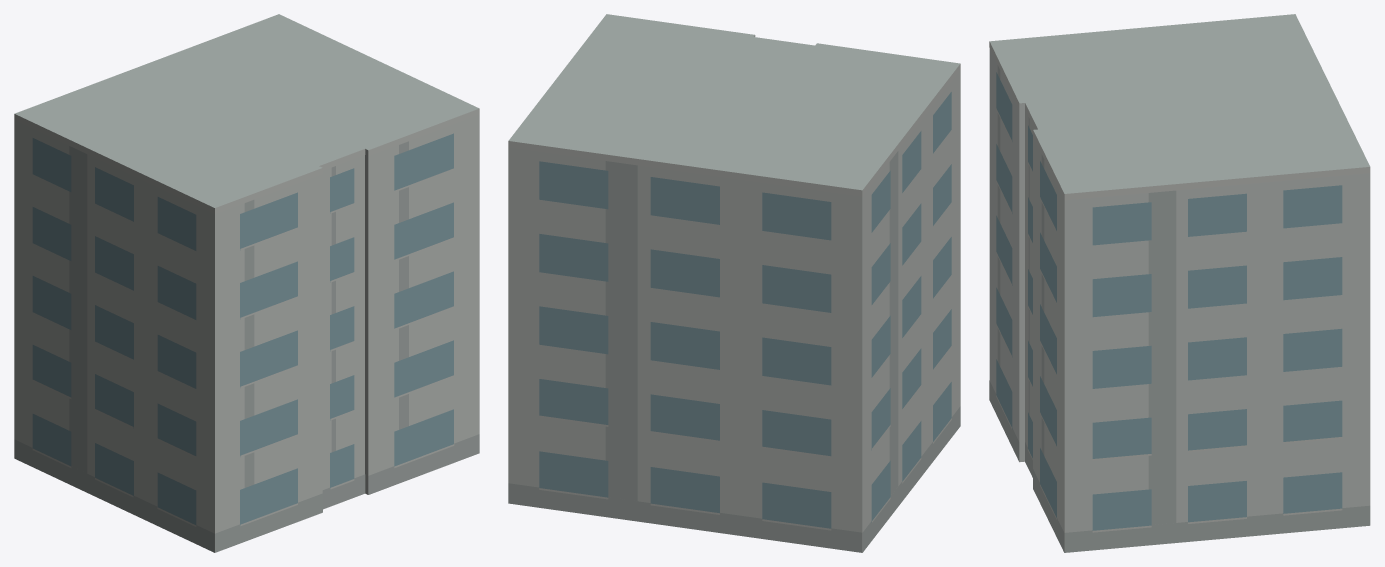
Rendered from survey-upis-32914127.glb.
3 renders of one model, left to right at view 1: azimuth 30°, elevation 25°; view 2: azimuth 150°, elevation 25°; view 3: azimuth 270°, elevation 25°, orthographic. The views are drawn at different scales.
Parts seen in each view (by area): view 1: survey-upis-32914127.tmp; view 2: survey-upis-32914127.tmp; view 3: survey-upis-32914127.tmp.
Boxes of the visible parts, left/top/right/bottom form: survey-upis-32914127.tmp: left=14, top=14, right=479, bottom=552; survey-upis-32914127.tmp: left=508, top=14, right=960, bottom=552; survey-upis-32914127.tmp: left=989, top=14, right=1370, bottom=552.
Bounding box in the file's own units: 14.64 × 13.6 × 13.09.
